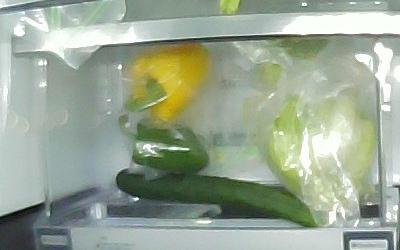cucumber: (115, 169, 319, 225)
lettuce_vinyl: (267, 96, 375, 204)
paprika_vinyl: (125, 43, 211, 121), (118, 115, 209, 174)
